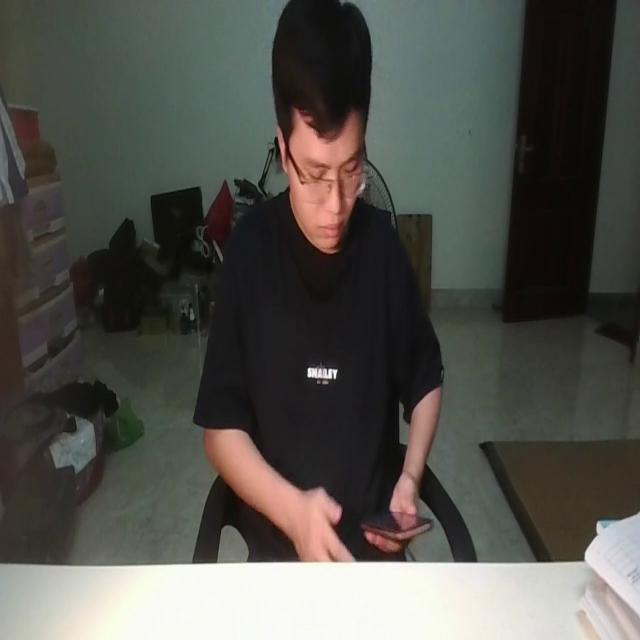phone: (356, 499, 436, 548)
student: (194, 0, 446, 565)
